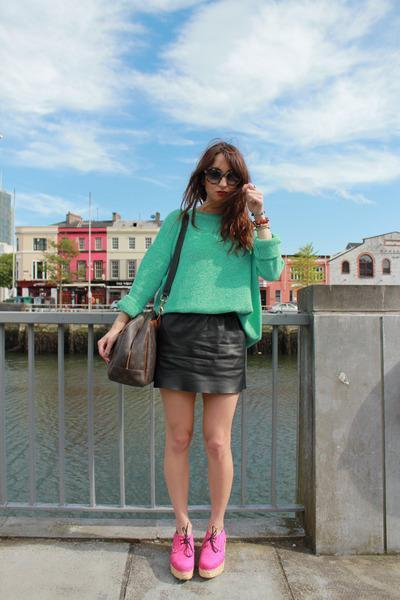bag: (107, 223, 190, 387)
shirt: (115, 208, 279, 339)
shoe: (171, 528, 224, 573)
skirt: (152, 311, 263, 407)
sunglass: (210, 160, 250, 196)
